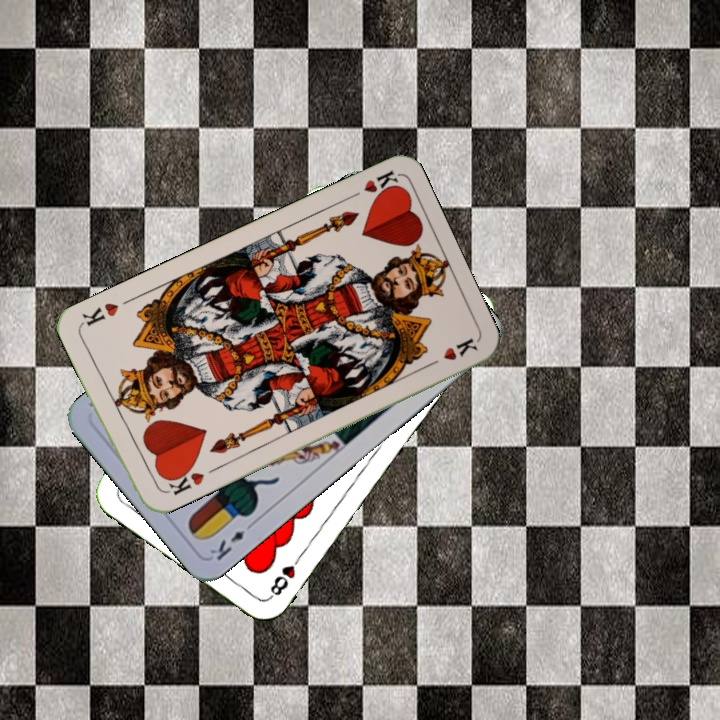EK: (205, 517, 258, 563)
H8: (265, 550, 305, 602)
HK: (342, 166, 402, 203), (158, 461, 207, 498)
